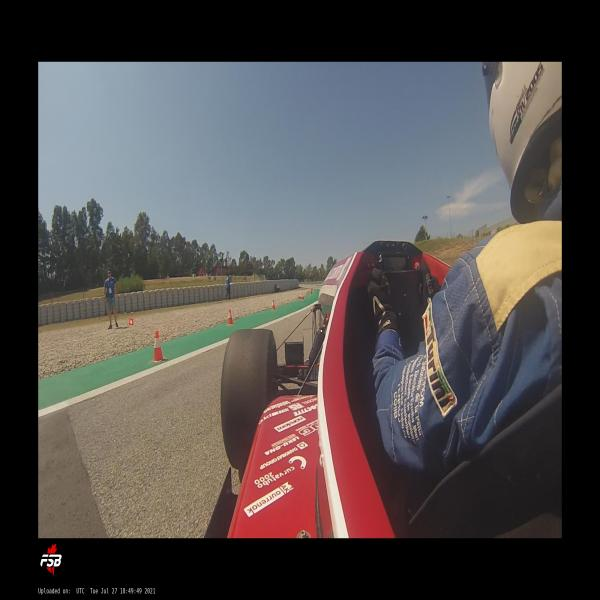orange_cone: (150, 331, 166, 362), (227, 308, 234, 325), (128, 318, 134, 326), (272, 300, 275, 309), (301, 292, 304, 300), (310, 288, 312, 294)
